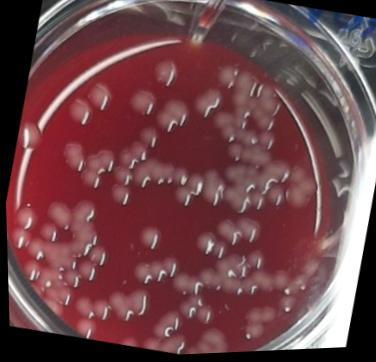vharveyi: (189, 246, 245, 302), (62, 198, 101, 261), (102, 283, 151, 327), (236, 265, 288, 306), (211, 212, 262, 253), (73, 146, 115, 194), (128, 251, 178, 290), (166, 165, 206, 213), (235, 302, 276, 348), (129, 157, 175, 196), (179, 322, 230, 356), (149, 96, 190, 138), (174, 294, 213, 329), (188, 86, 223, 123), (54, 139, 89, 175), (147, 309, 182, 344), (197, 171, 226, 210), (146, 57, 177, 92), (82, 82, 114, 115), (42, 200, 75, 232), (63, 97, 94, 131), (166, 271, 202, 300), (131, 224, 162, 256), (125, 88, 155, 120), (7, 202, 35, 231), (188, 231, 217, 259), (67, 294, 94, 321), (104, 184, 131, 210), (212, 65, 238, 92), (87, 296, 112, 324), (5, 225, 30, 252), (239, 248, 263, 275), (68, 318, 93, 341)
